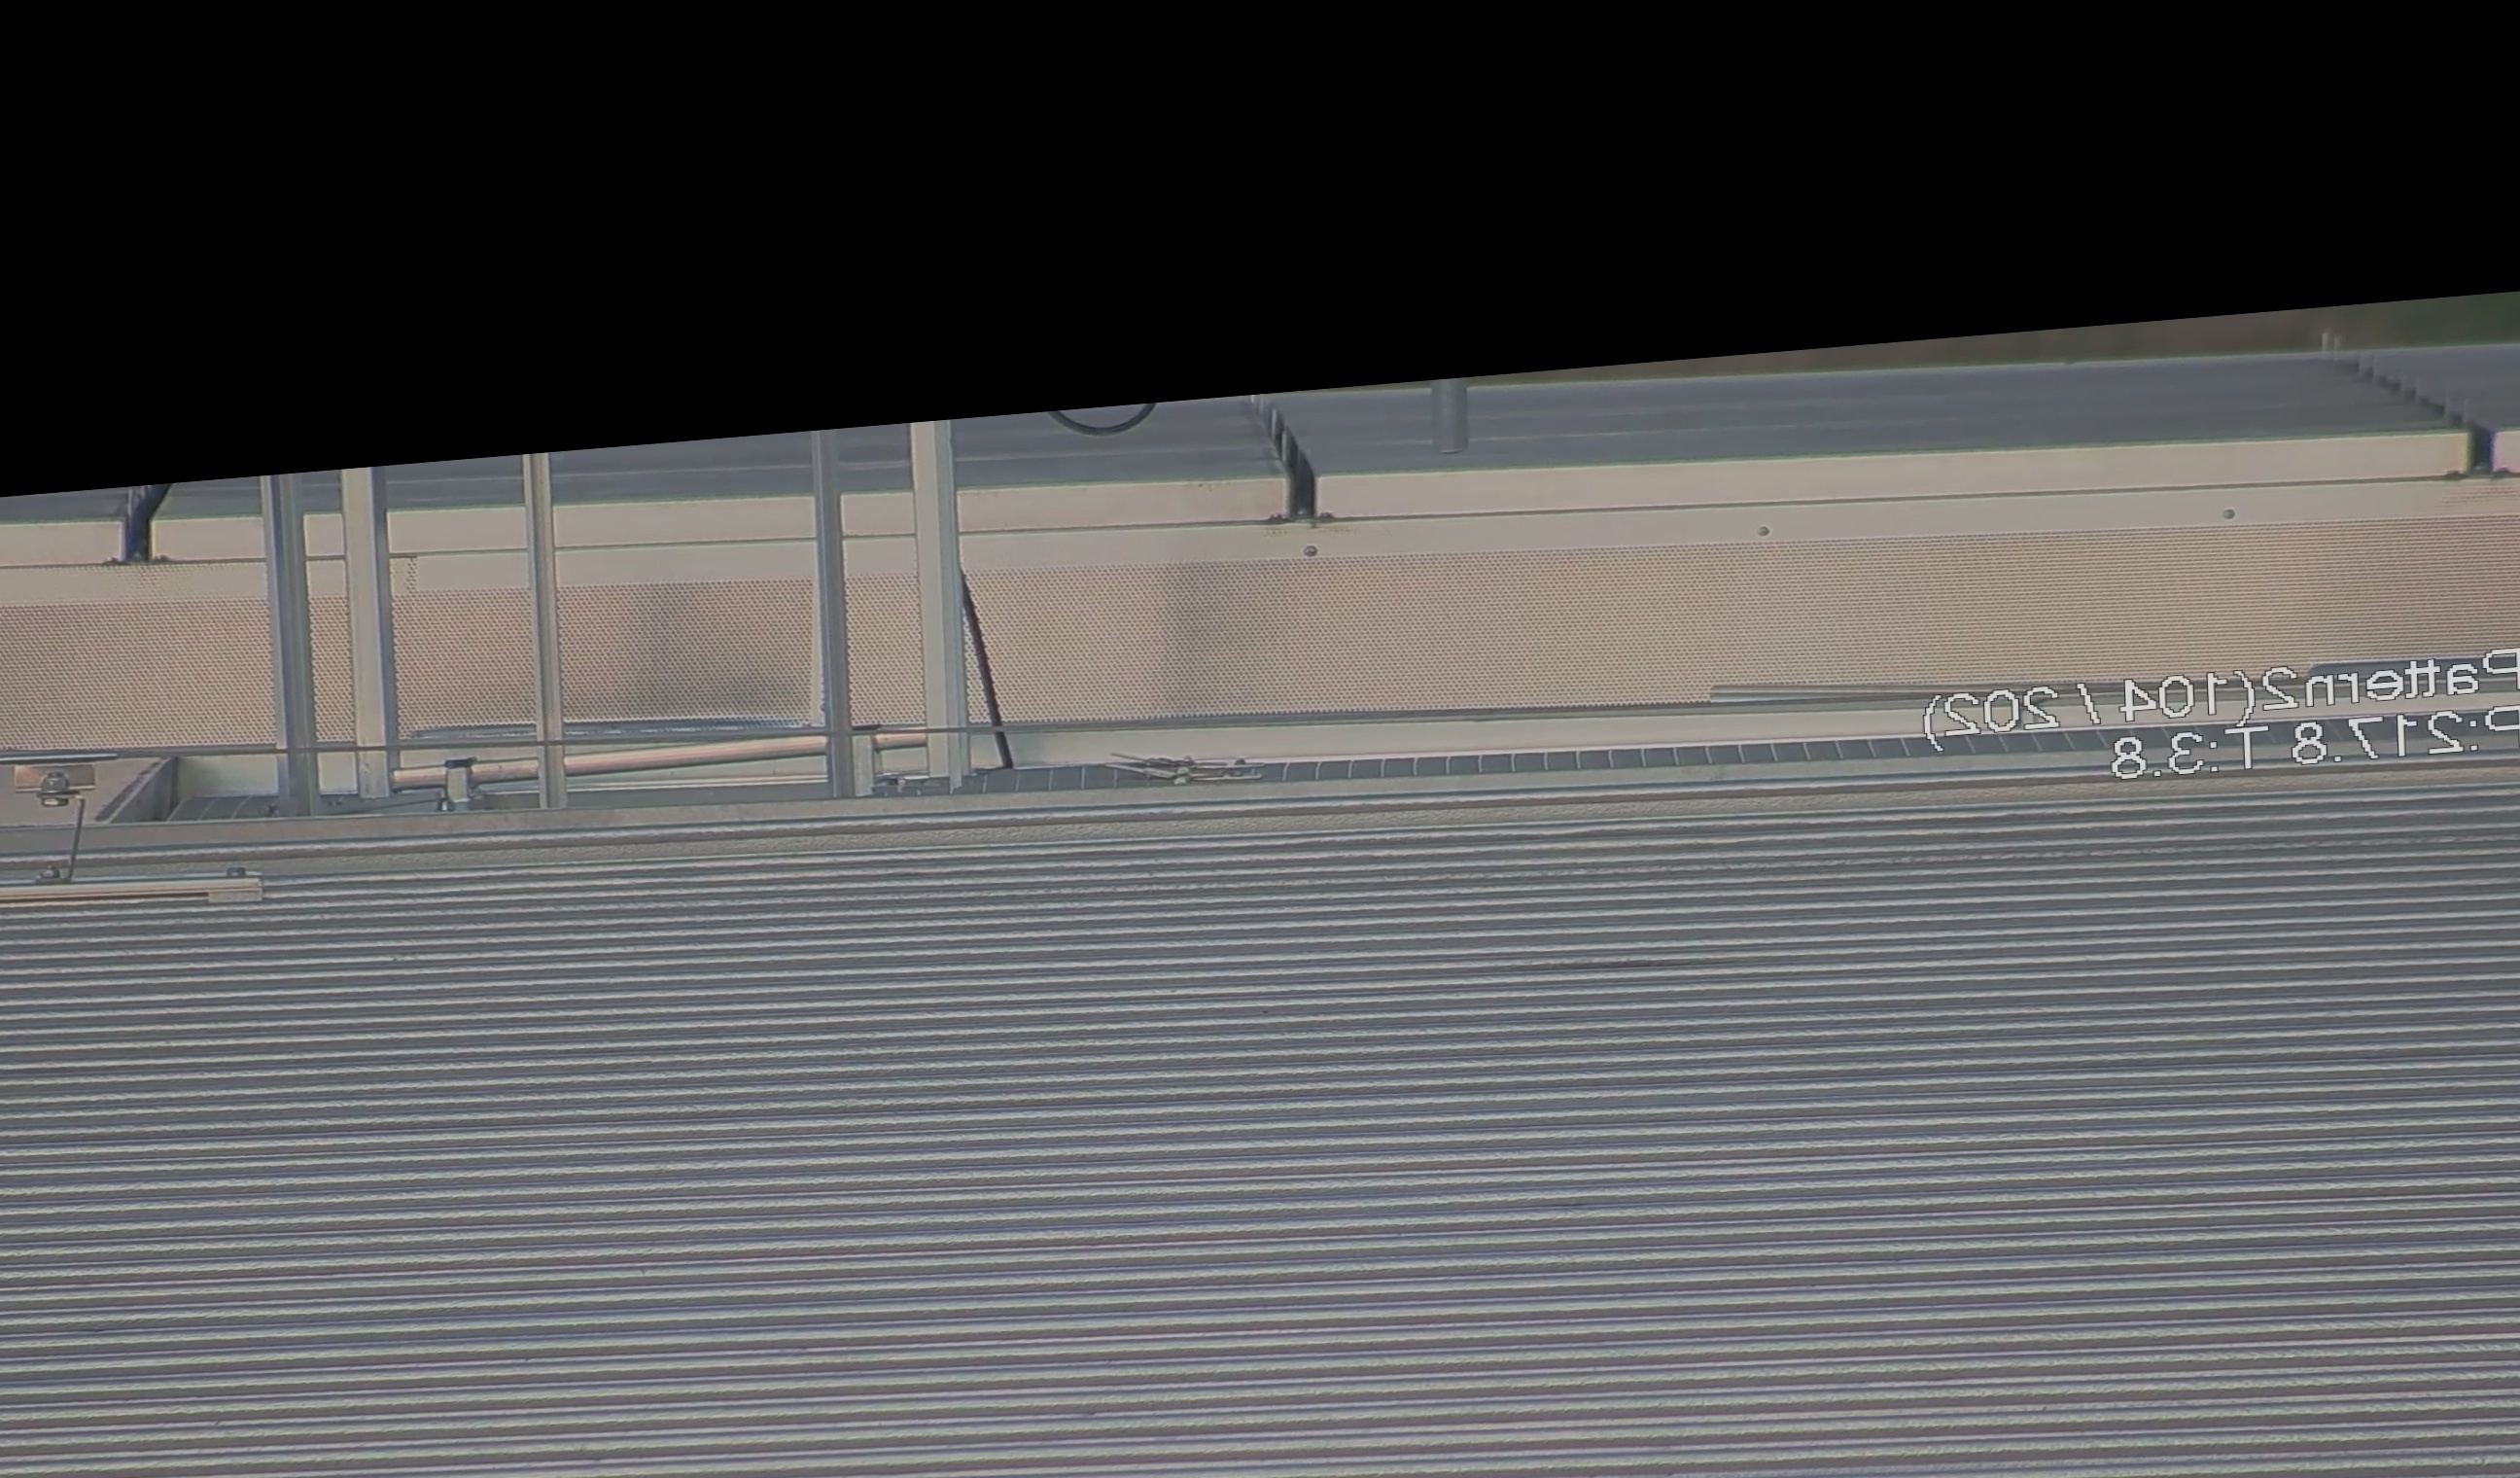Other: (83, 421, 193, 575)
